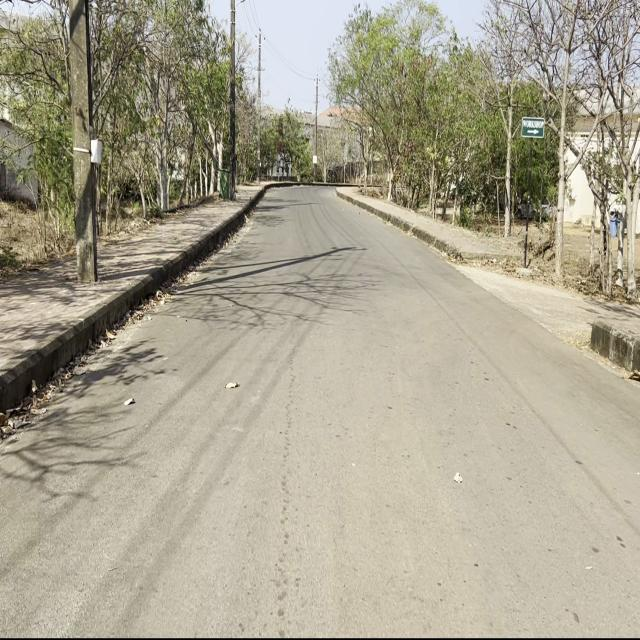Road: (2, 186, 637, 636)
